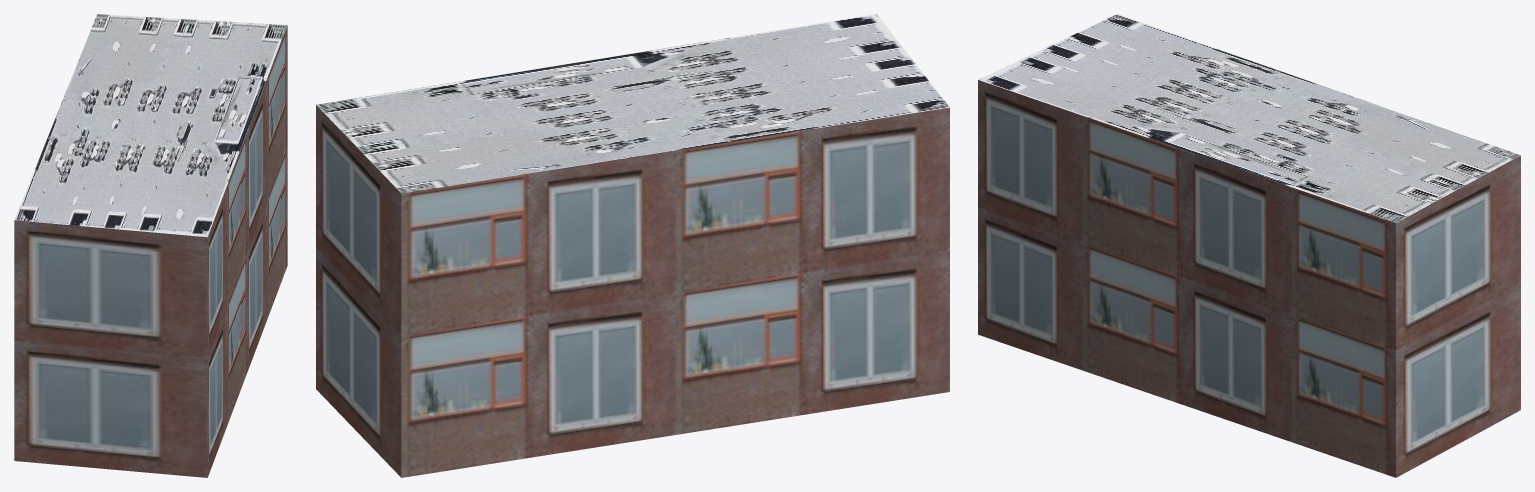
File: ResTex__2108.fbx
3 views of the same model, side by side, from view 1: azimuth 30°, elevation 25°; view 2: azimuth 150°, elevation 25°; view 3: azimuth 270°, elevation 25° (orthographic). The views are drawn at different scales.
Parts seen in each view (by area): view 1: CityEngineMaterial_19_m, CityEngineMaterial_15_m; view 2: CityEngineMaterial_19_m, CityEngineMaterial_15_m; view 3: CityEngineMaterial_19_m, CityEngineMaterial_15_m.
Part boxes in pixels (x1,y1,x2,y2): CityEngineMaterial_19_m: (14,25,287,477); CityEngineMaterial_15_m: (14,14,287,237); CityEngineMaterial_19_m: (316,105,949,477); CityEngineMaterial_15_m: (316,14,949,193); CityEngineMaterial_19_m: (978,80,1520,477); CityEngineMaterial_15_m: (978,14,1520,222).
Size of the model in its own units: 10.56 by 6 by 11.58.
2 materials, 2 textured.
